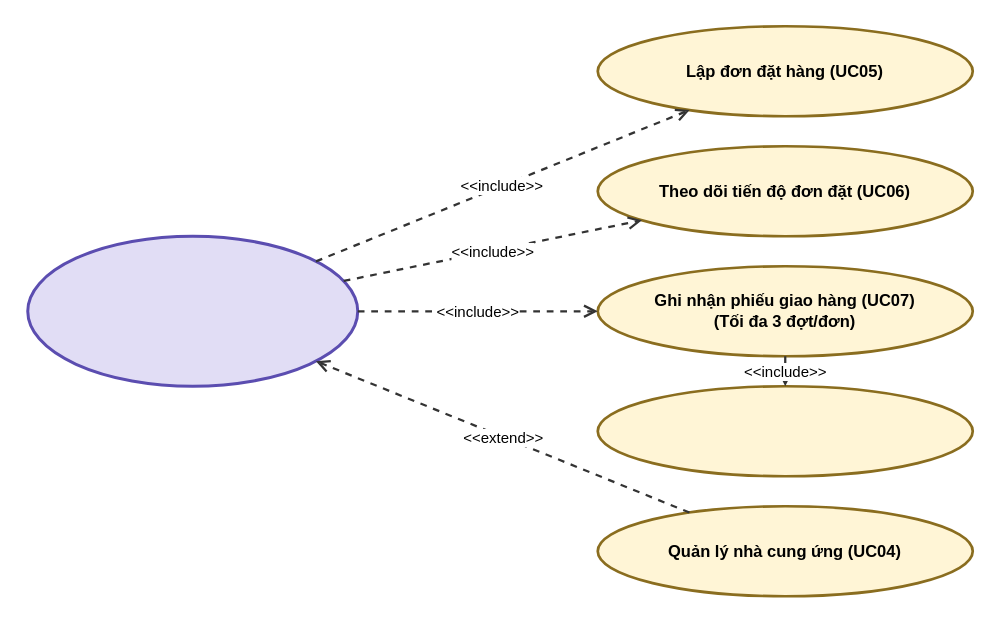
This 999x624 diagram has some shape labels left out. The centre of each missing label's shape, as x and y in pixels:
Cập nhật tồn kho sau nhập (UC08): point 784,430
Quản lý nhập hàng từ NCC: point 192,310
